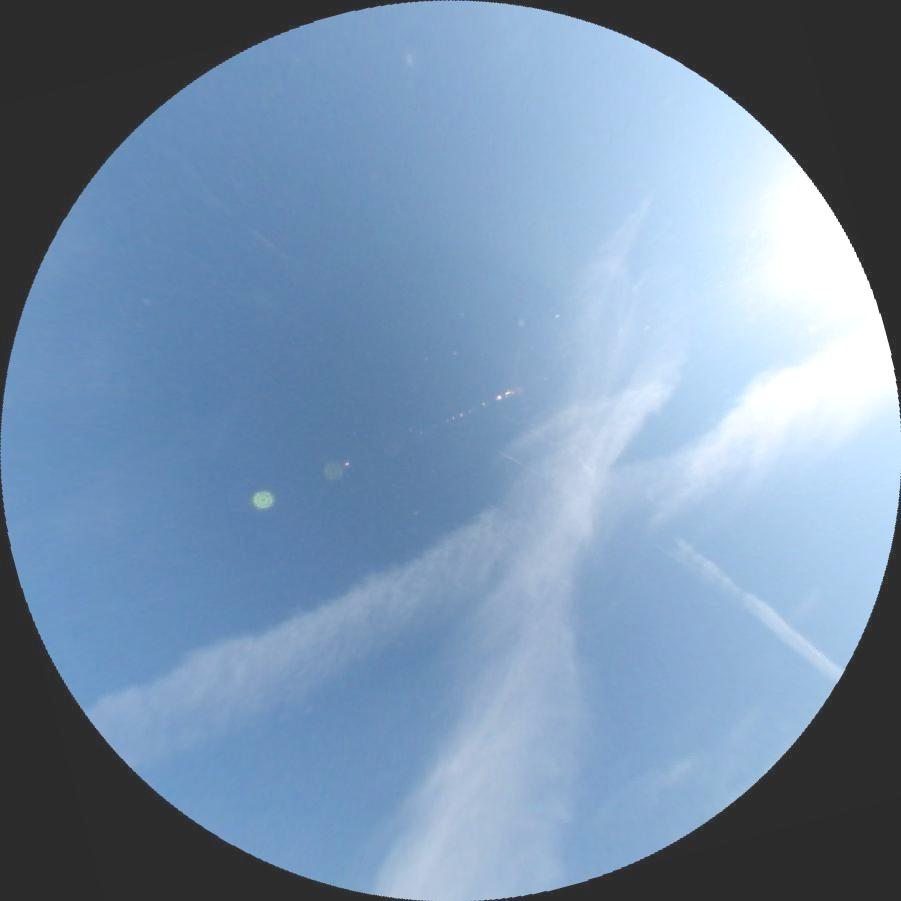contrail veryold: (663, 534, 847, 683)
contrail young: (498, 448, 691, 568)
